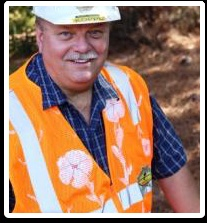helmet: (31, 6, 127, 24)
person with full safety: (9, 7, 182, 213)
safety vest: (11, 58, 153, 211)
